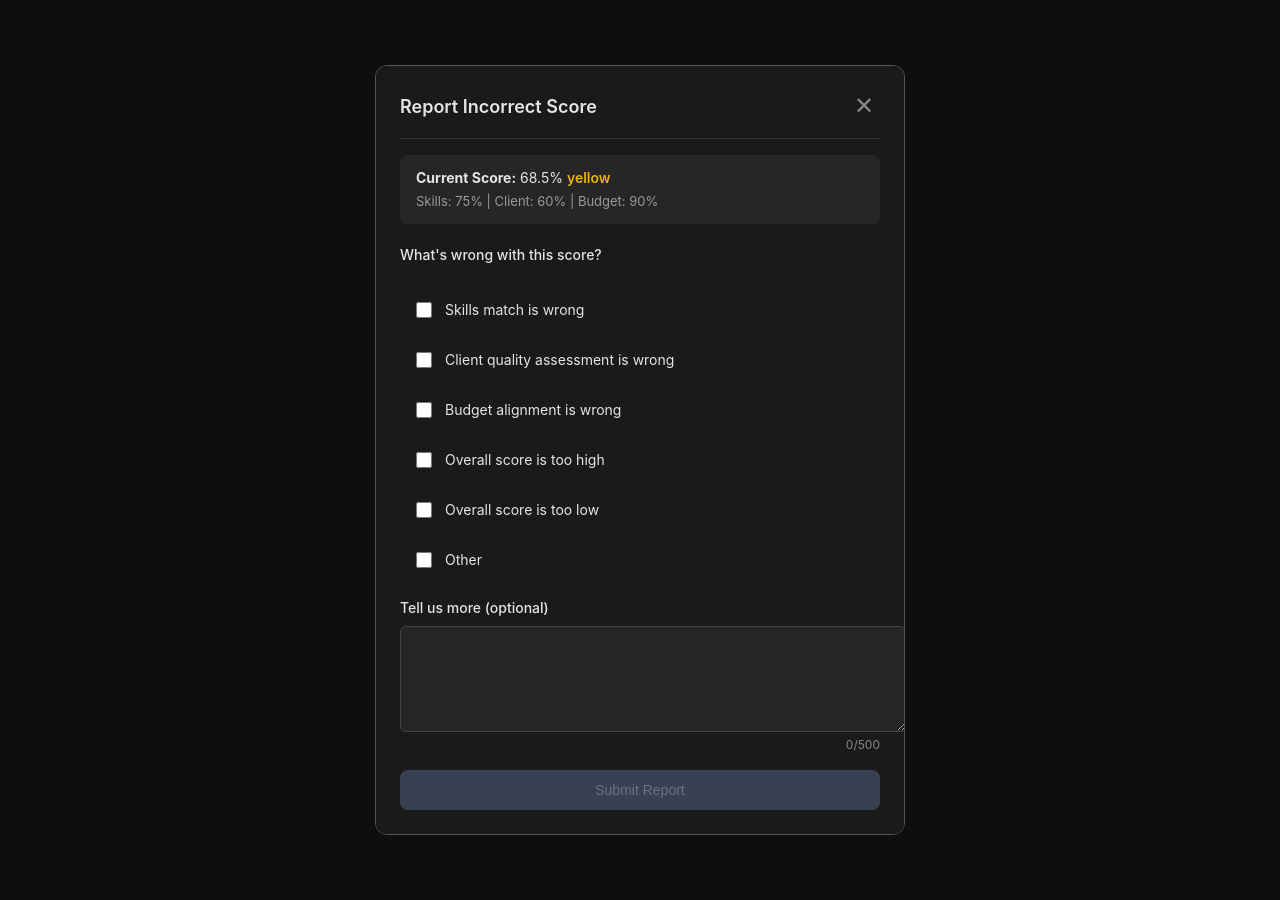
Test: ReportScoreModal › Task 12.4: Basic rendering and submit button states › disables submit button when all checkboxes are deselected
Select then deselect
What coordinates should you click on to do the following:
click the checkbox labelled "Skills match is wrong"
I would click on:
 (424, 310)
Its box is [416,302,432,318].
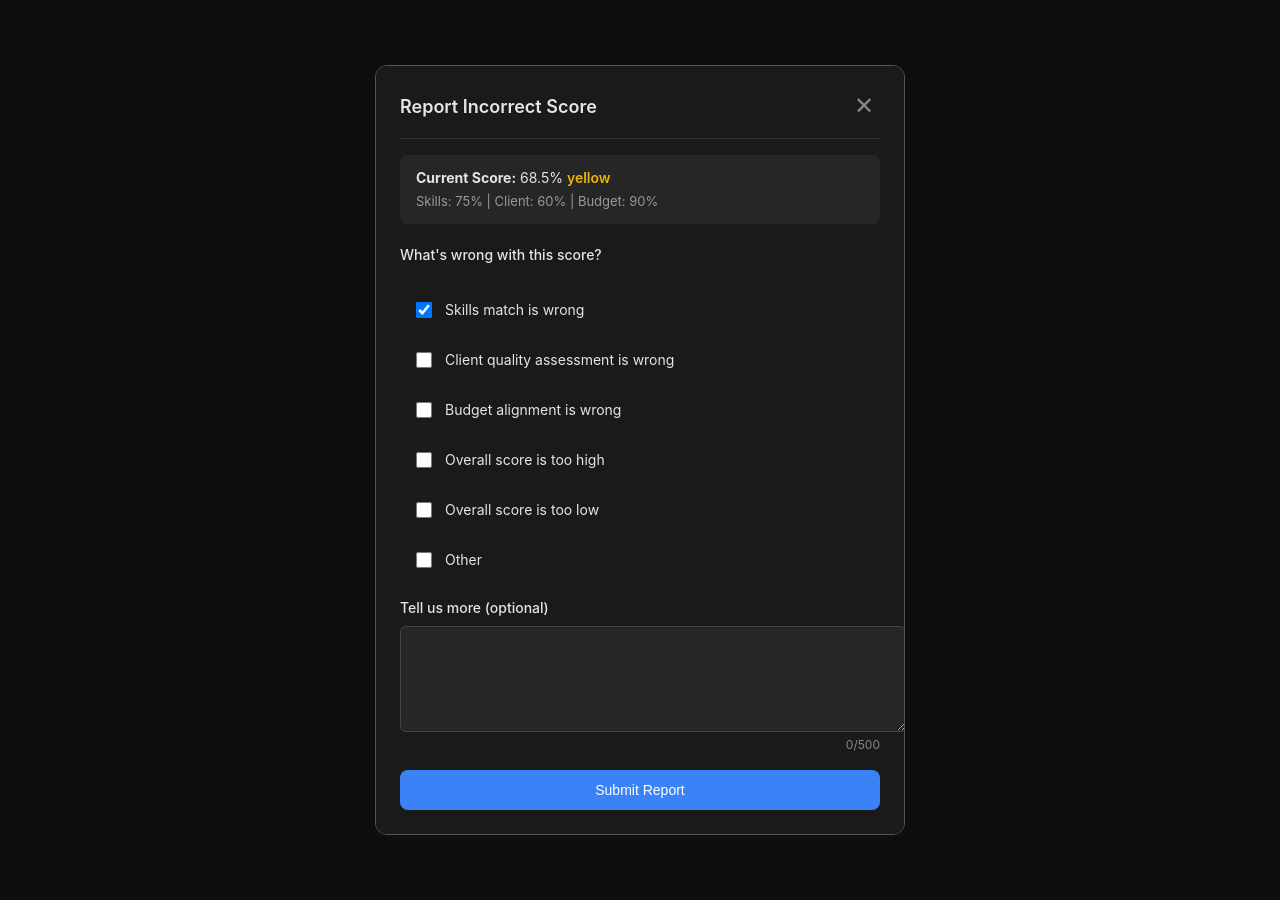
Now the button "Submit Report" is enabled, box [400,770,880,810]
What coordinates should you click on to do the following:
click the checkbox labelled "Skills match is wrong"
I would click on:
 (424, 310)
Its box is [416,302,432,318].
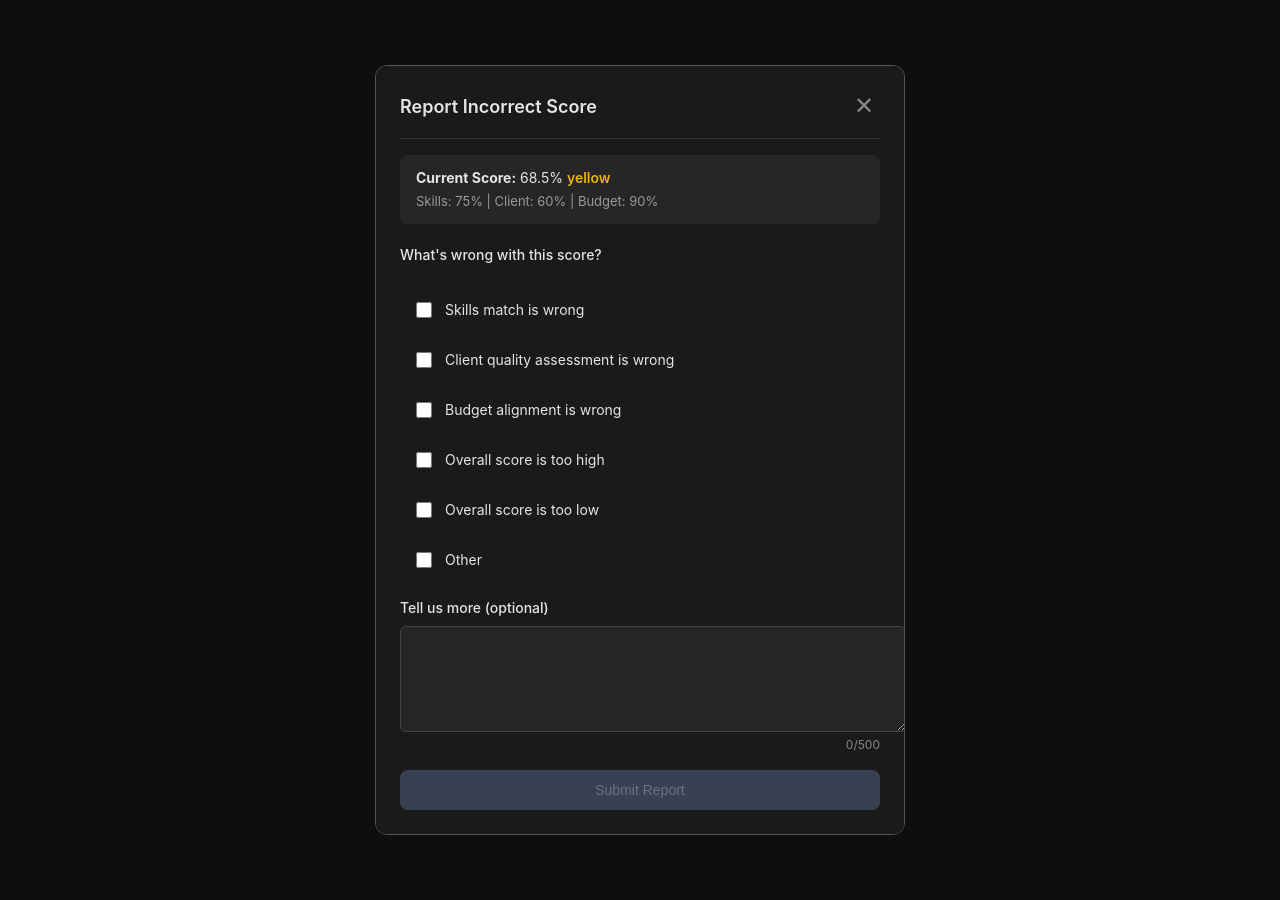
Now the button "Submit Report" is disabled, box [400,770,880,810]
